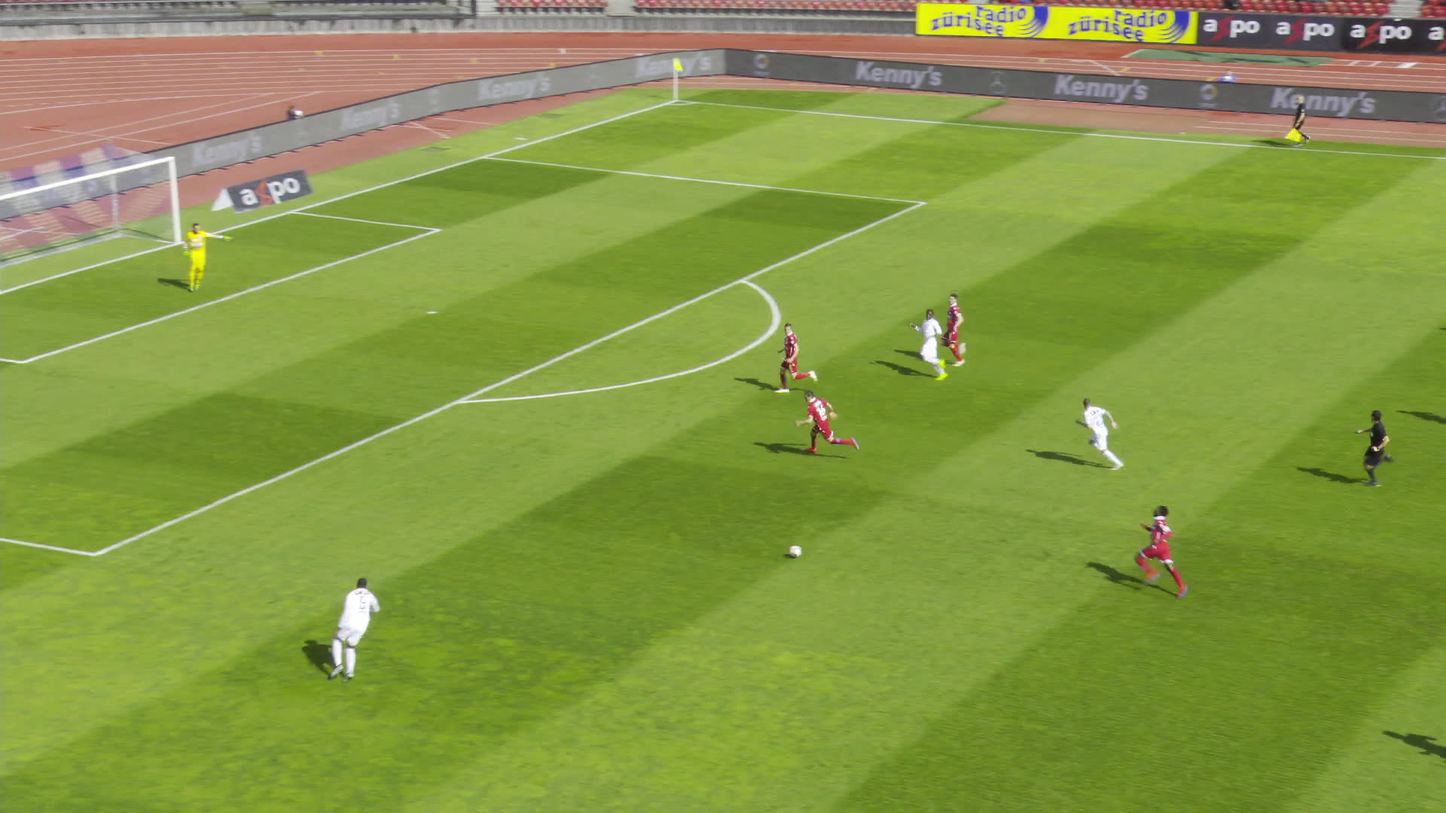ball: (792, 544, 807, 554)
player: (1129, 504, 1203, 589), (324, 577, 377, 681), (797, 391, 856, 458), (173, 225, 225, 292), (931, 293, 981, 362), (910, 306, 958, 377), (1078, 397, 1123, 470), (770, 321, 810, 394)
referee: (1347, 407, 1407, 485), (1280, 94, 1312, 147)
